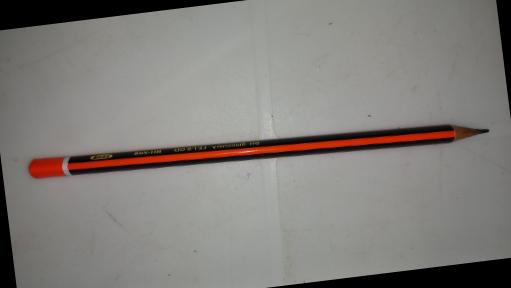Pencil: (26, 103, 490, 194)
